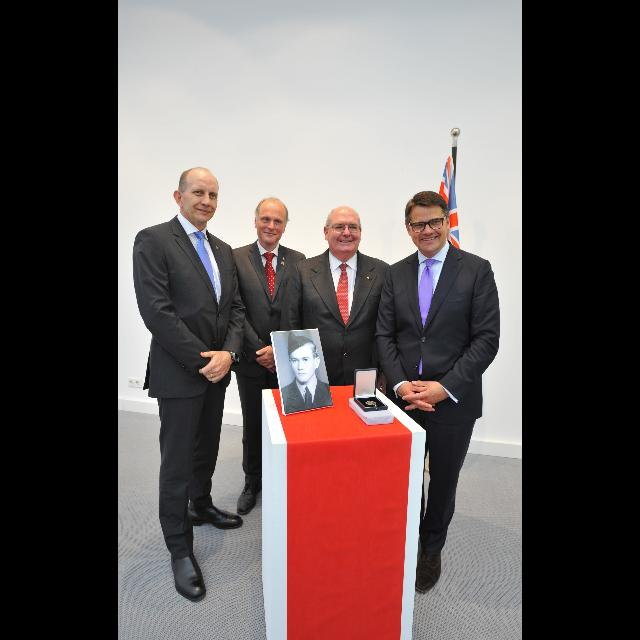head: (268, 332, 339, 564), (406, 193, 452, 254), (172, 166, 220, 224), (324, 205, 364, 252), (254, 198, 288, 242)
person: (371, 189, 503, 595), (130, 165, 246, 605), (278, 203, 396, 567), (222, 196, 310, 518), (268, 332, 339, 564)
